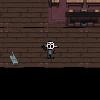Hide: (63, 8, 100, 27)
Jason: (40, 40, 59, 59)
Win: (5, 49, 22, 67)
